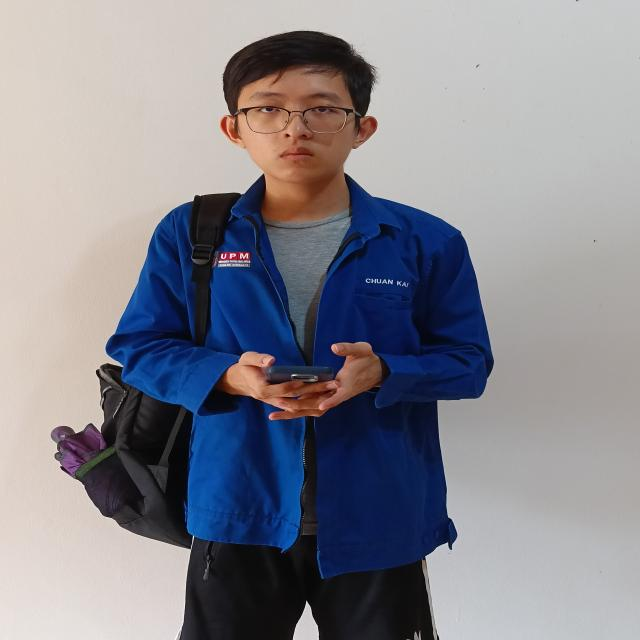person_with_labcoat: (52, 31, 493, 640)
